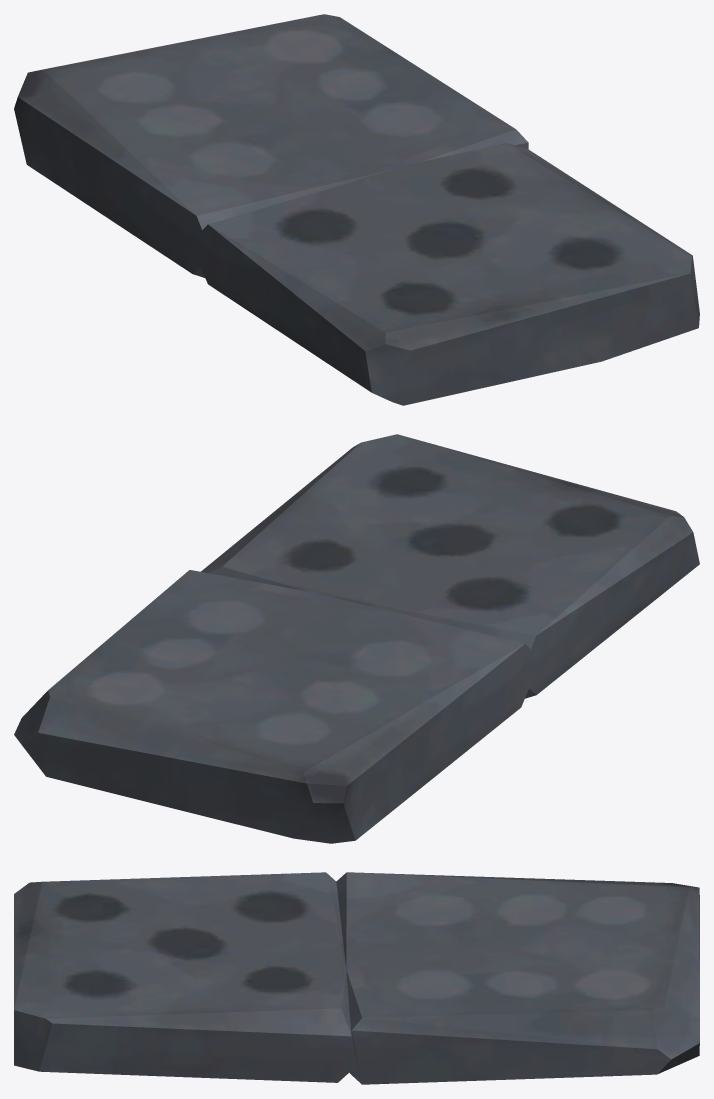
Rendered from mdlDomino.fbx.
The picture shows the model from 3 angles, top to bottom: view 1: azimuth 30°, elevation 25°; view 2: azimuth 150°, elevation 25°; view 3: azimuth 270°, elevation 25°; orthographic projection. The views are drawn at different scales.
Parts seen in each view (by area): view 1: mdlDomino; view 2: mdlDomino; view 3: mdlDomino.
Part boxes in pixels (<box>): mdlDomino: <box>14,14,699,405</box>; mdlDomino: <box>14,434,699,843</box>; mdlDomino: <box>14,872,699,1084</box>.
Size of the model in its own units: 0.1601 by 0.034 by 0.312.
